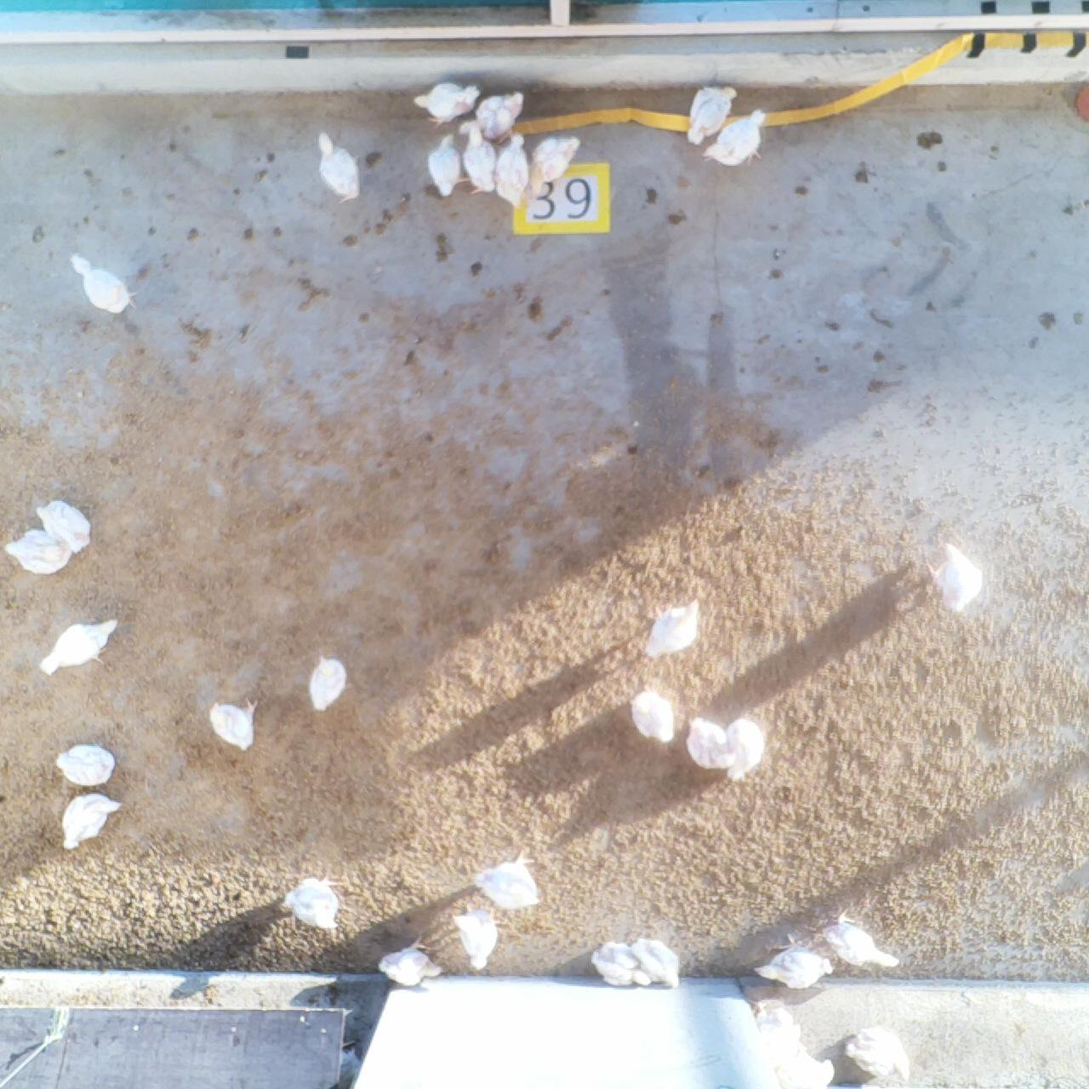chicken: (815, 904, 904, 978), (464, 840, 545, 916), (34, 614, 126, 680), (61, 245, 145, 316), (747, 926, 836, 993), (917, 535, 990, 614), (278, 864, 355, 938), (52, 788, 127, 861), (838, 1016, 916, 1085), (701, 104, 772, 171), (32, 492, 97, 562), (638, 597, 709, 661), (313, 123, 364, 208), (375, 931, 446, 991), (719, 708, 770, 789), (682, 80, 739, 152), (624, 933, 690, 995), (448, 900, 503, 974), (625, 683, 680, 753), (0, 526, 77, 576), (458, 86, 528, 141), (410, 77, 482, 129), (52, 736, 120, 791), (589, 936, 653, 990), (493, 127, 533, 213), (304, 648, 351, 720), (527, 132, 583, 192), (206, 694, 261, 752), (424, 129, 467, 201), (459, 123, 500, 198), (684, 706, 730, 771), (753, 1018, 808, 1061), (776, 1049, 835, 1089), (744, 997, 796, 1030)
